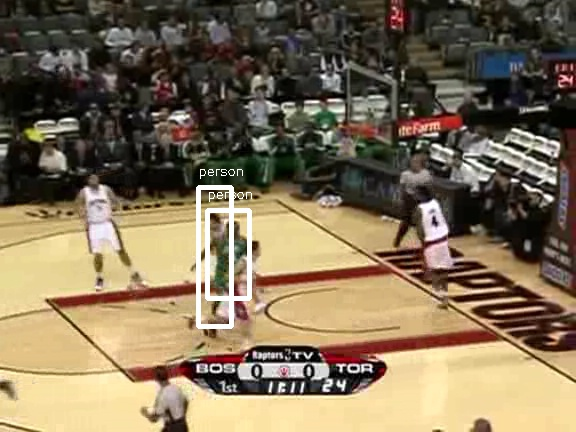person: (215, 223, 249, 304), (214, 223, 248, 304), (216, 223, 250, 304), (215, 222, 249, 303), (215, 224, 249, 305)
target_negative: (121, 70, 309, 225), (348, 214, 546, 329), (21, 338, 227, 387), (172, 347, 409, 382), (398, 4, 441, 70), (199, 257, 412, 262)
